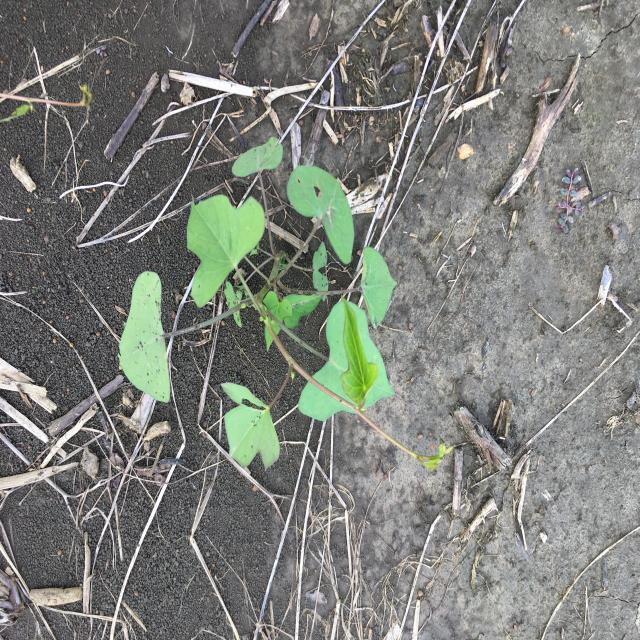MorningGlory: (116, 134, 458, 476)
